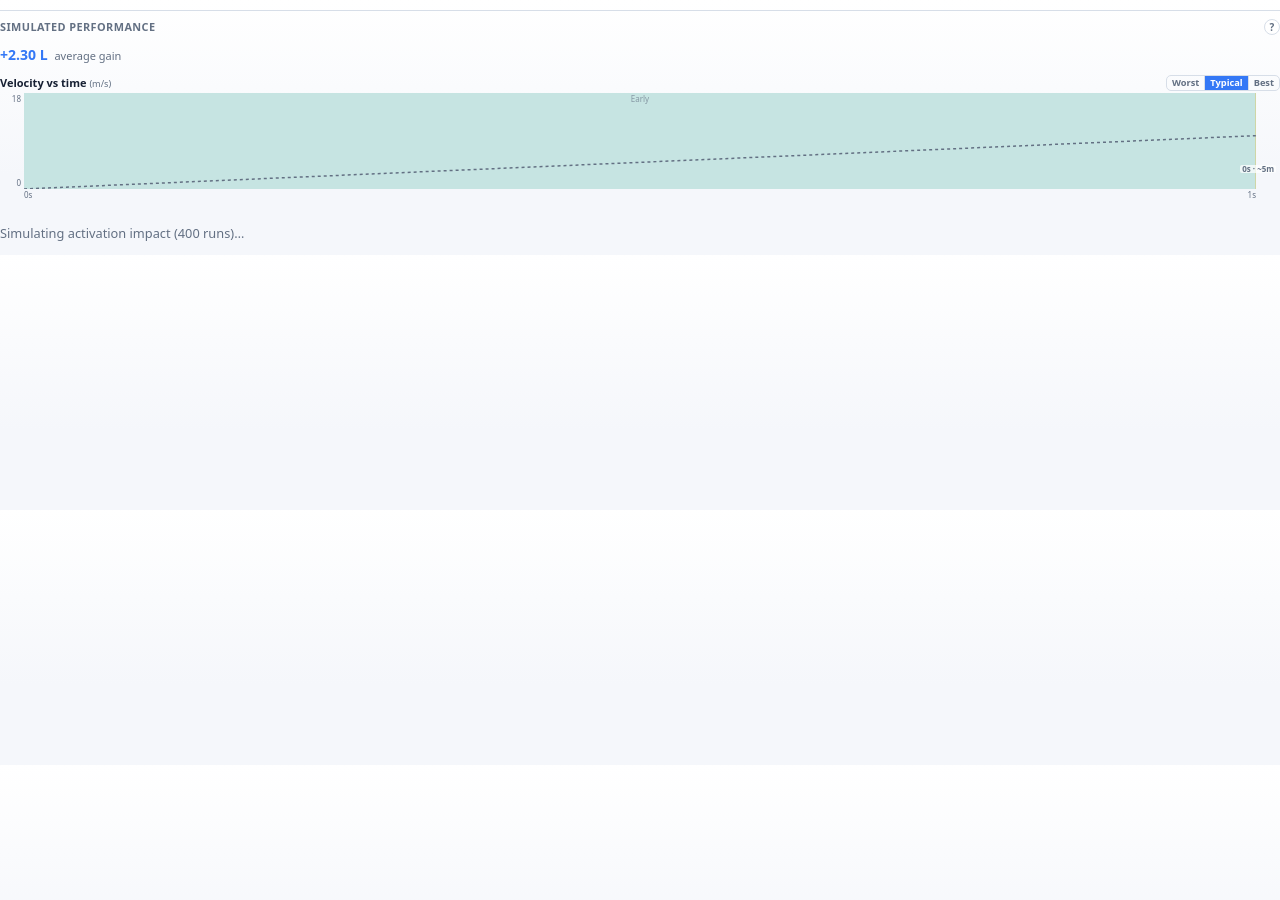
Test: SkillTraceSection › Escape closes the help popup
Click the button named "how these graphs work". click: click(1272, 27)
box: [1264,19,1279,35]
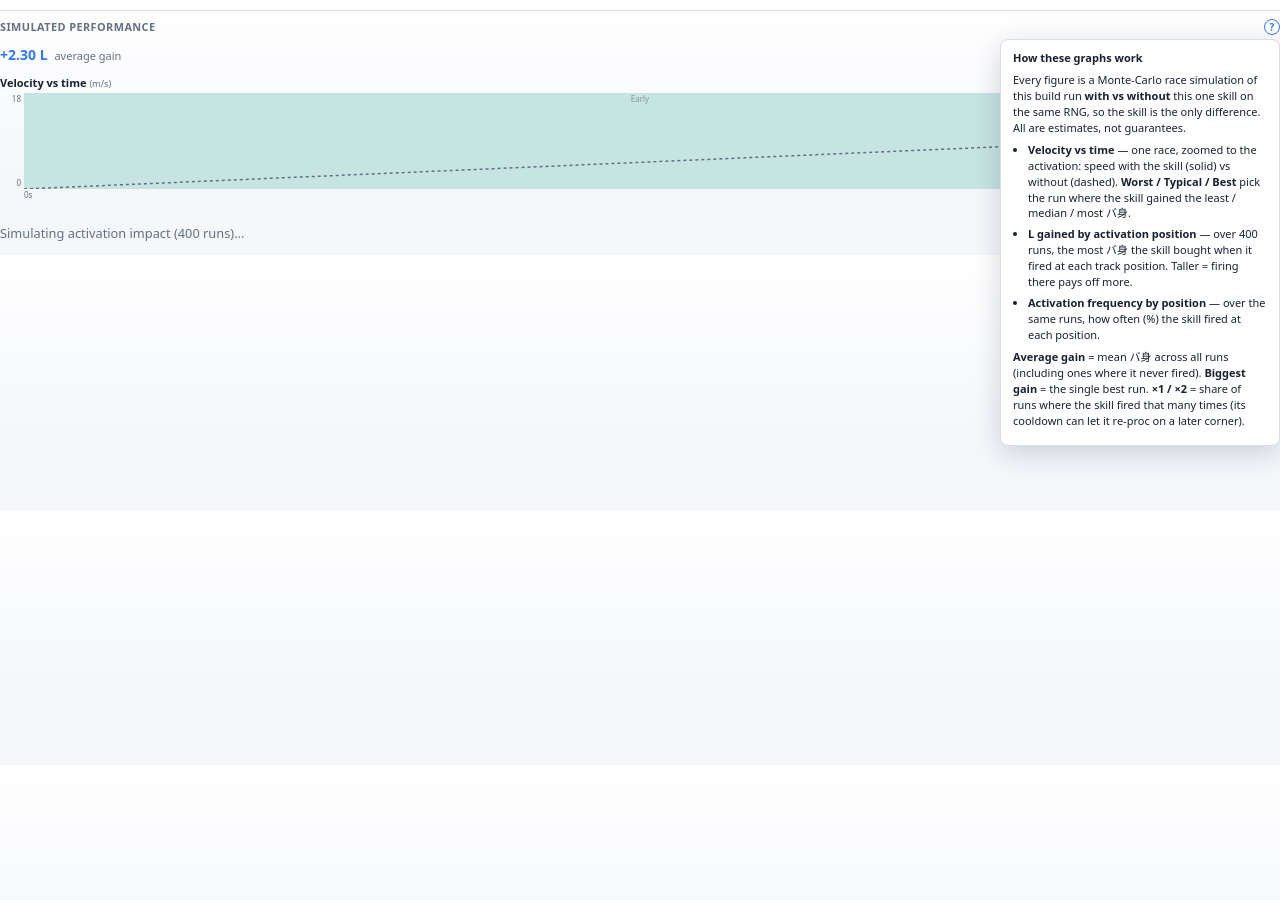
Result: the text "How these graphs work" is shown at [1013,50,1142,65]
Press Escape
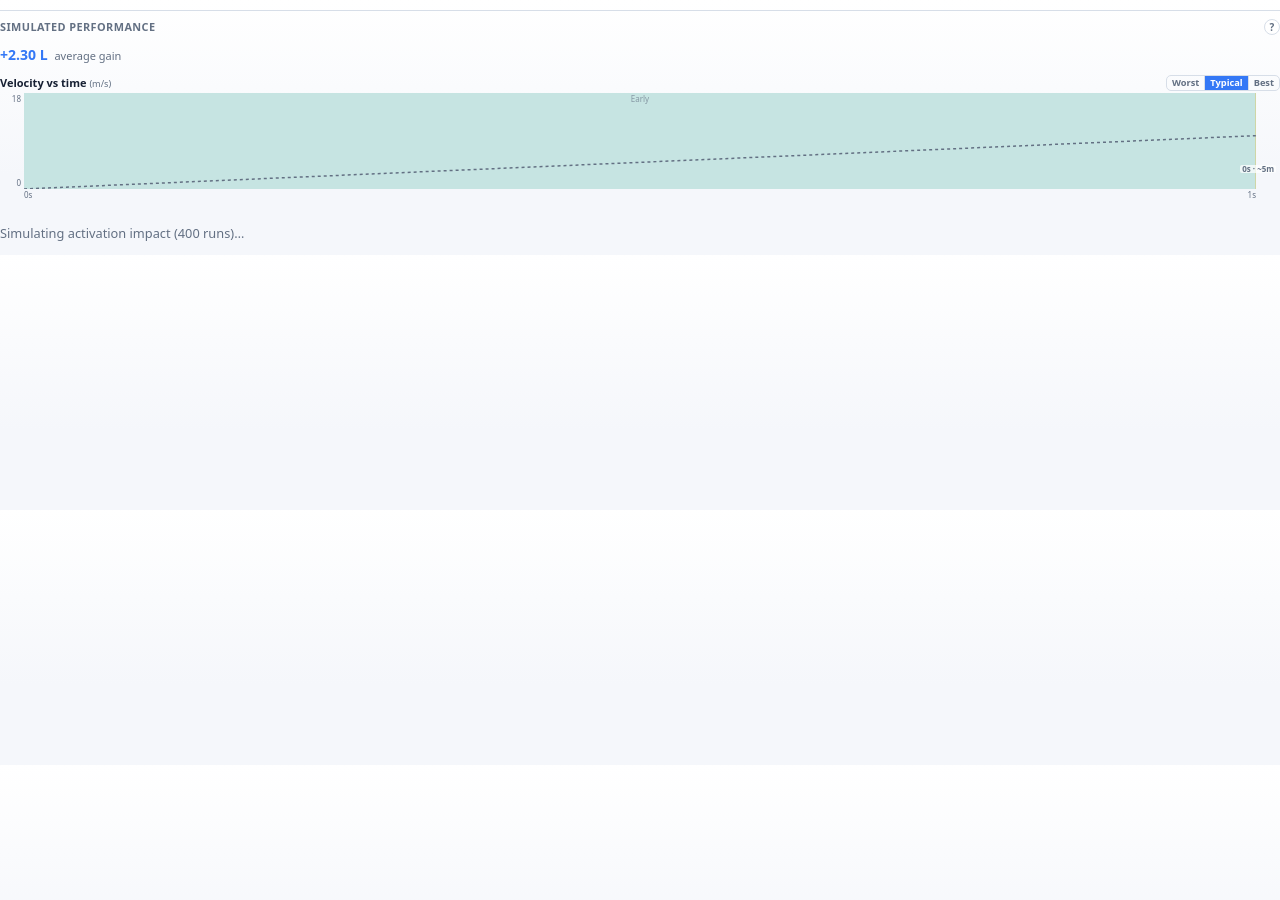
Result: the text "How these graphs work" is gone
